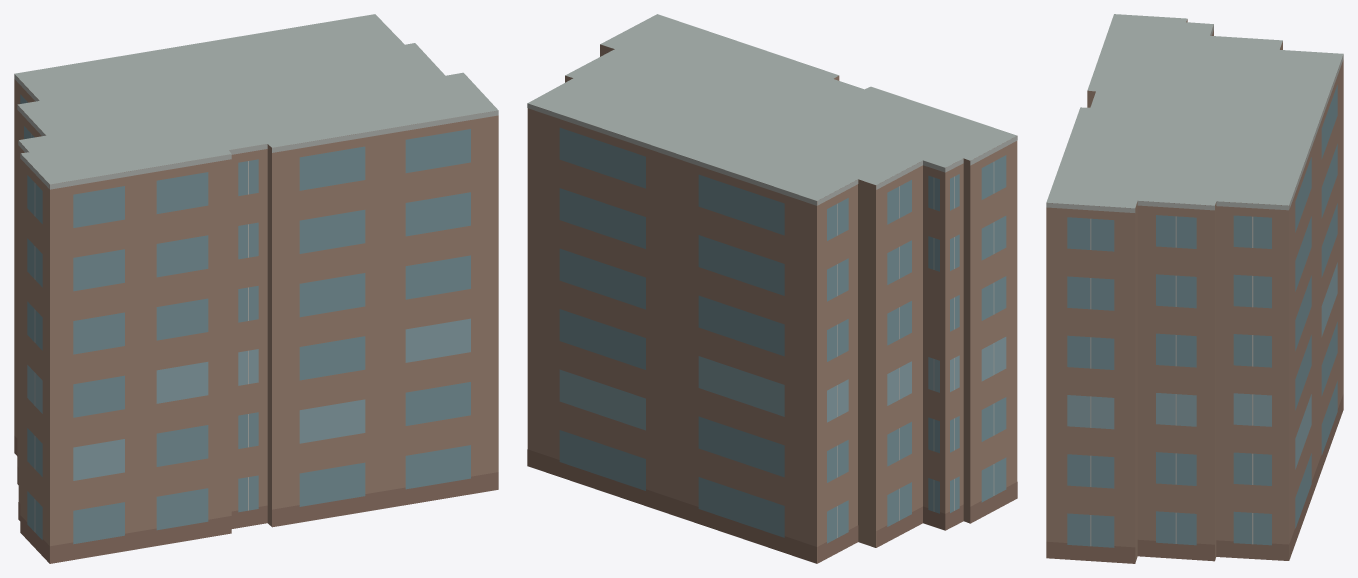
File: survey-upis-32682623.glb
The picture shows the model from 3 angles, left to right: view 1: azimuth 30°, elevation 25°; view 2: azimuth 150°, elevation 25°; view 3: azimuth 270°, elevation 25°; orthographic projection. The views are drawn at different scales.
Visible parts, largest first — view 1: survey-upis-32682623.tmp; view 2: survey-upis-32682623.tmp; view 3: survey-upis-32682623.tmp.
Part boxes in pixels (x1,y1,x2,y2): survey-upis-32682623.tmp: [14, 14, 498, 563]; survey-upis-32682623.tmp: [527, 14, 1017, 563]; survey-upis-32682623.tmp: [1046, 14, 1343, 563].
Size of the model in its own units: 21.35 by 18.2 by 13.81.
